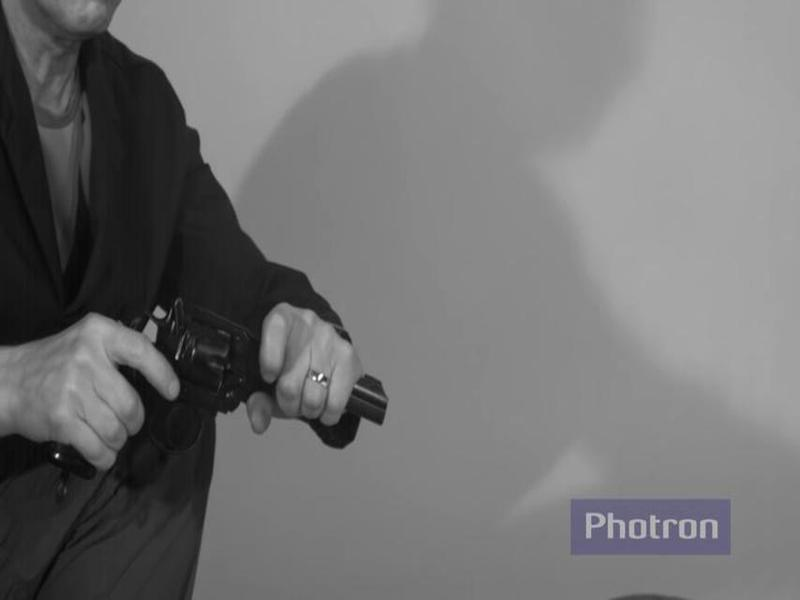Revolver: (44, 273, 400, 515)
